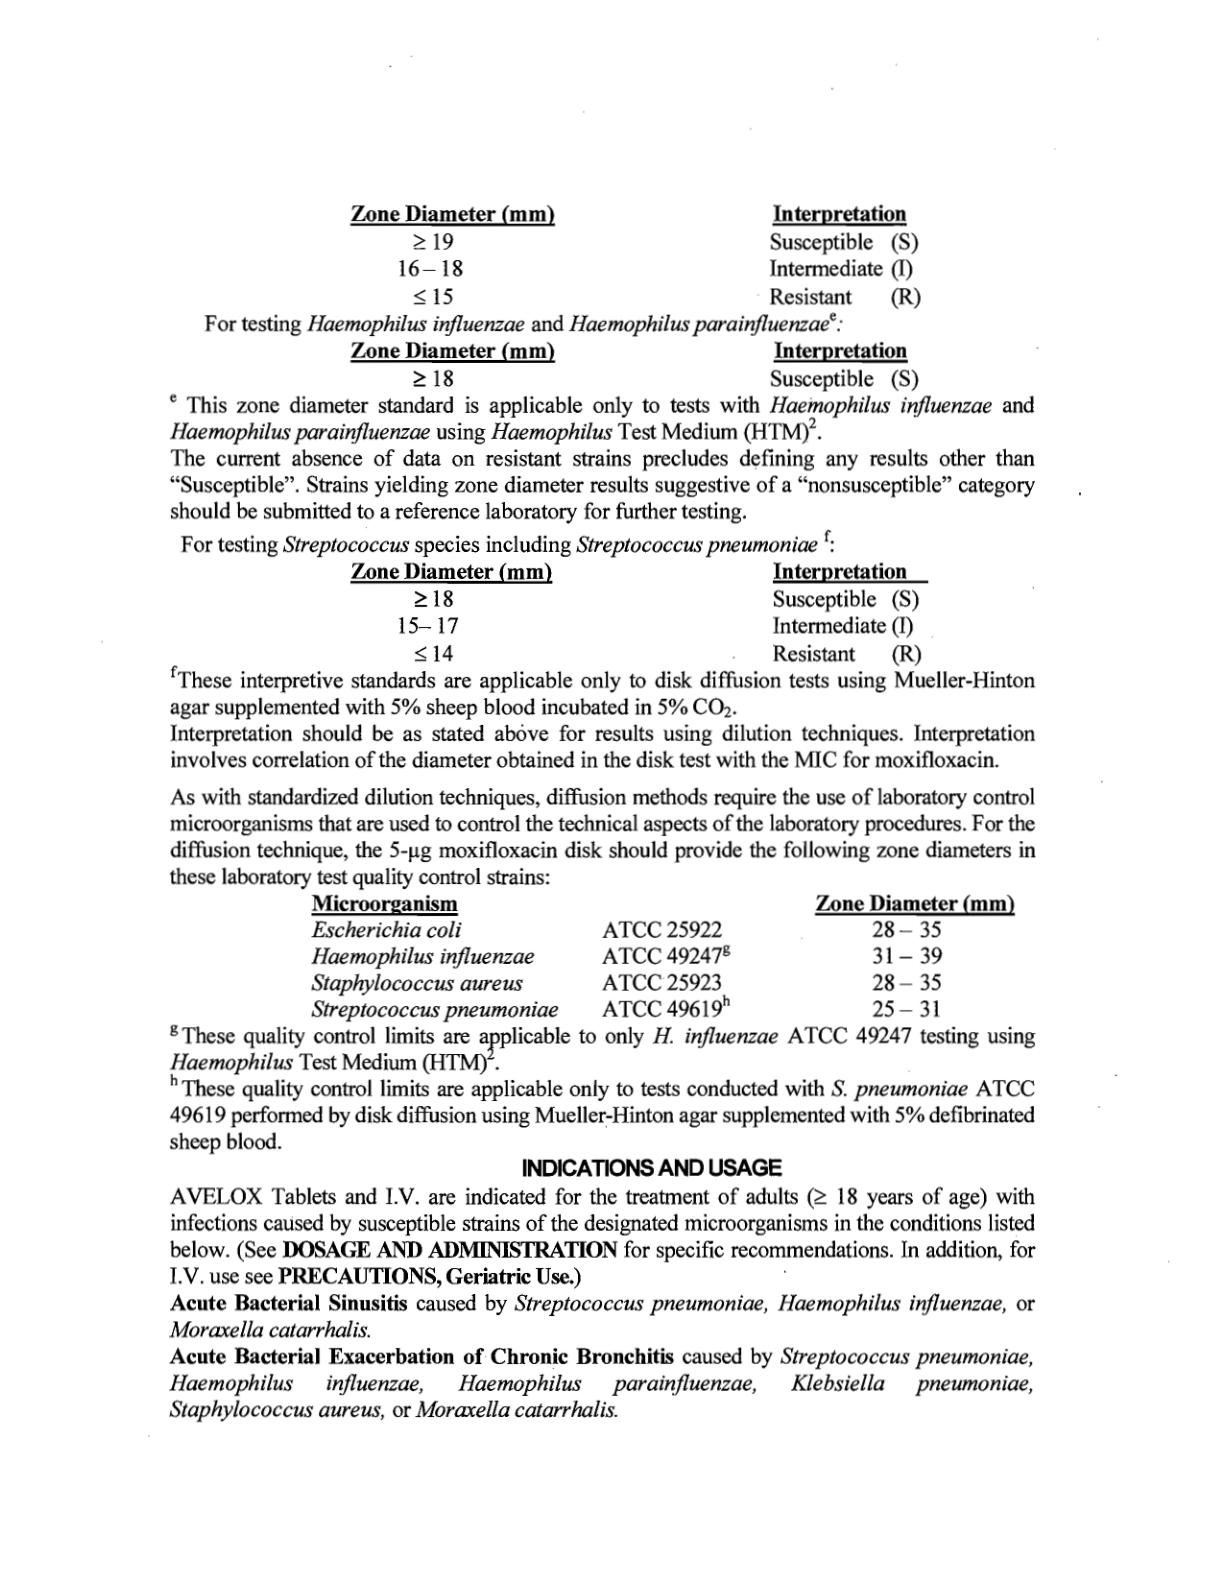nolines: (308, 891, 1012, 1017), (349, 199, 924, 309), (347, 560, 924, 665), (349, 340, 921, 393)
